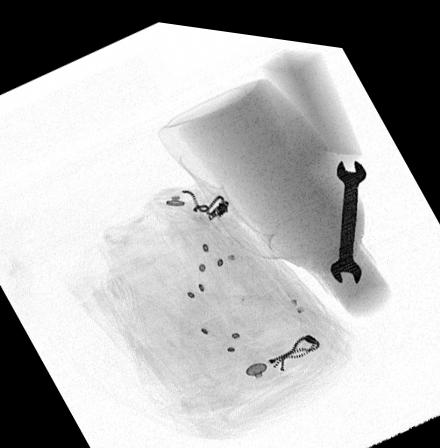Wrench: (327, 145, 368, 276)
